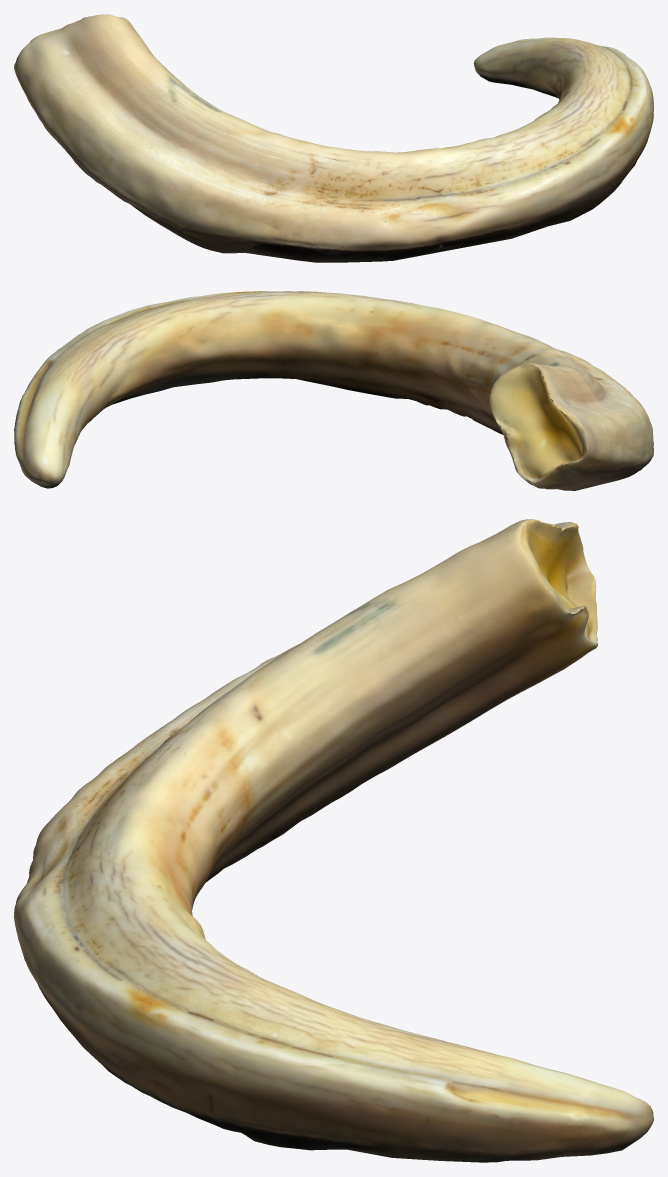
Rendered from warthogTusk.fbx.
The picture shows the model from 3 angles, top to bottom: view 1: azimuth 30°, elevation 25°; view 2: azimuth 150°, elevation 25°; view 3: azimuth 270°, elevation 25°; orthographic projection. The views are drawn at different scales.
Visible parts, largest first — view 1: Object_2; view 2: Object_2; view 3: Object_2.
Part boxes in pixels (bbox=[...]): Object_2: bbox=[14, 14, 653, 262]; Object_2: bbox=[14, 291, 653, 490]; Object_2: bbox=[14, 519, 653, 1162].
Size of the model in its own units: 118 by 38.96 by 76.02.
